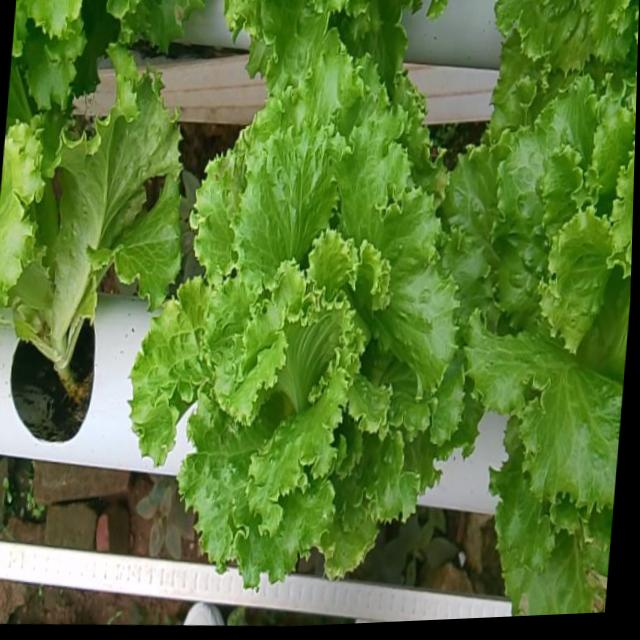Mature: (123, 66, 456, 606), (436, 88, 635, 532)
